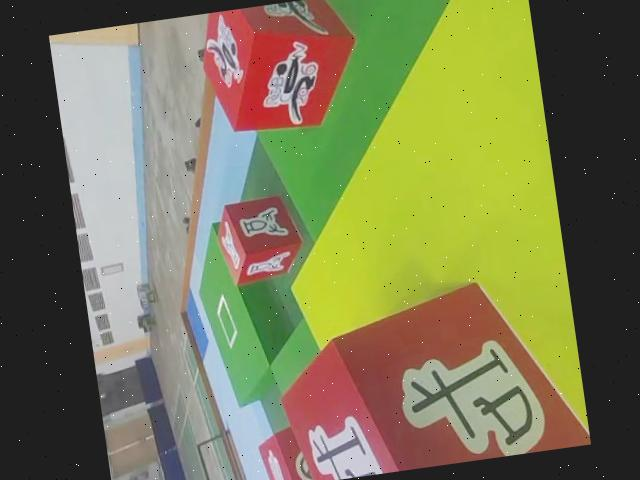R1: (198, 0, 364, 144)
R2 Real: (265, 270, 591, 480), (217, 188, 305, 284)
